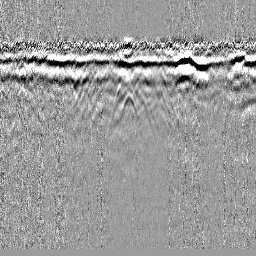cavity: (115, 89, 139, 126)
